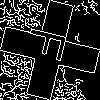F: (25, 25, 77, 65)
